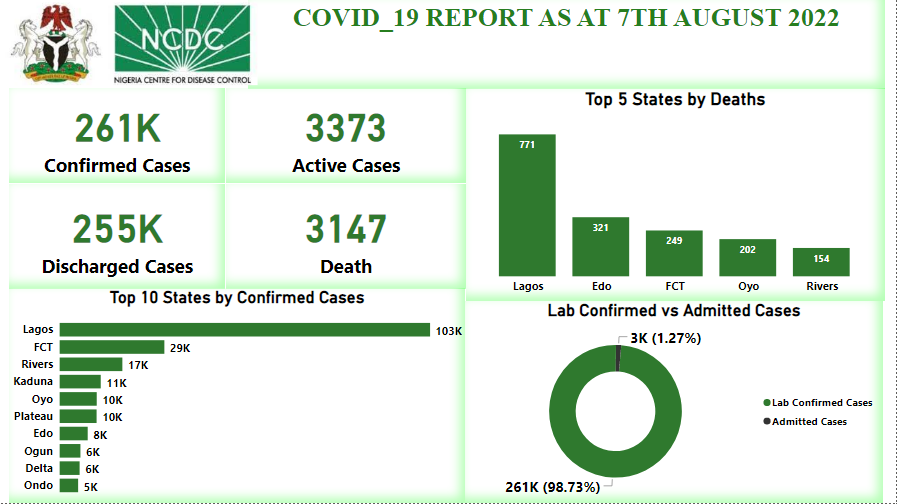

The dashboard page shown, as its layout file describes it:
{"tool":"powerbi","page":{"name":"Page 3","canvas":[1280,720],"ordinal":2},"visuals":[{"type":"textbox","box":[353.7,0,909.8,128],"z":0},{"type":"image","box":[0,0,373,128],"z":1000},{"type":"card","fields":{"Values":["Sum(key report.Confirmed Cases)"]},"box":[13.4,127.7,309.1,136.1],"z":2000},{"type":"card","fields":{"Values":["Sum(key report.Discharged Cases)"]},"box":[13.4,263.7,309.1,149.5],"z":3000},{"type":"card","fields":{"Values":["Sum(key report.Active Cases)"]},"box":[322.5,127.7,342.7,136.1],"z":4000},{"type":"card","fields":{"Values":["Sum(key report.Death)"]},"box":[322.5,263.7,342.7,149.5],"z":5000},{"type":"clusteredColumnChart","title":"Top 5 States by Deaths","fields":{"Category":["complete report.States Affected"],"Y":["Sum(complete report.No. of Deaths)"]},"box":[665.2,127.7,598,304],"z":6000},{"type":"clusteredBarChart","title":"Top 10 States by Confirmed Cases","fields":{"Y":["Sum(complete report.No. of Cases (Lab Confirmed))"],"Category":["complete report.States Affected"]},"box":[13.4,413.2,651.8,307.4],"z":7000},{"type":"donutChart","title":"Lab Confirmed vs Admitted Cases","fields":{"Y":["Sum(complete report.Lab Confirmed Cases)","Sum(complete report.Admitted Cases)"]},"box":[665,432,597,288],"z":8000}]}

Visuals, with their boxes in screenshot pixels (x1, y1, x2, y2), scaled from the page's 1280x720 canvas onto the 897x504 screenshot:
textbox: locate(248, 0, 885, 90)
image: locate(0, 0, 261, 90)
card - Sum(key report.Confirmed Cases): locate(9, 89, 226, 185)
card - Sum(key report.Discharged Cases): locate(9, 185, 226, 289)
card - Sum(key report.Active Cases): locate(226, 89, 466, 185)
card - Sum(key report.Death): locate(226, 185, 466, 289)
"Top 5 States by Deaths" clusteredColumnChart: locate(466, 89, 885, 302)
"Top 10 States by Confirmed Cases" clusteredBarChart: locate(9, 289, 466, 503)
"Lab Confirmed vs Admitted Cases" donutChart: locate(466, 302, 884, 503)
